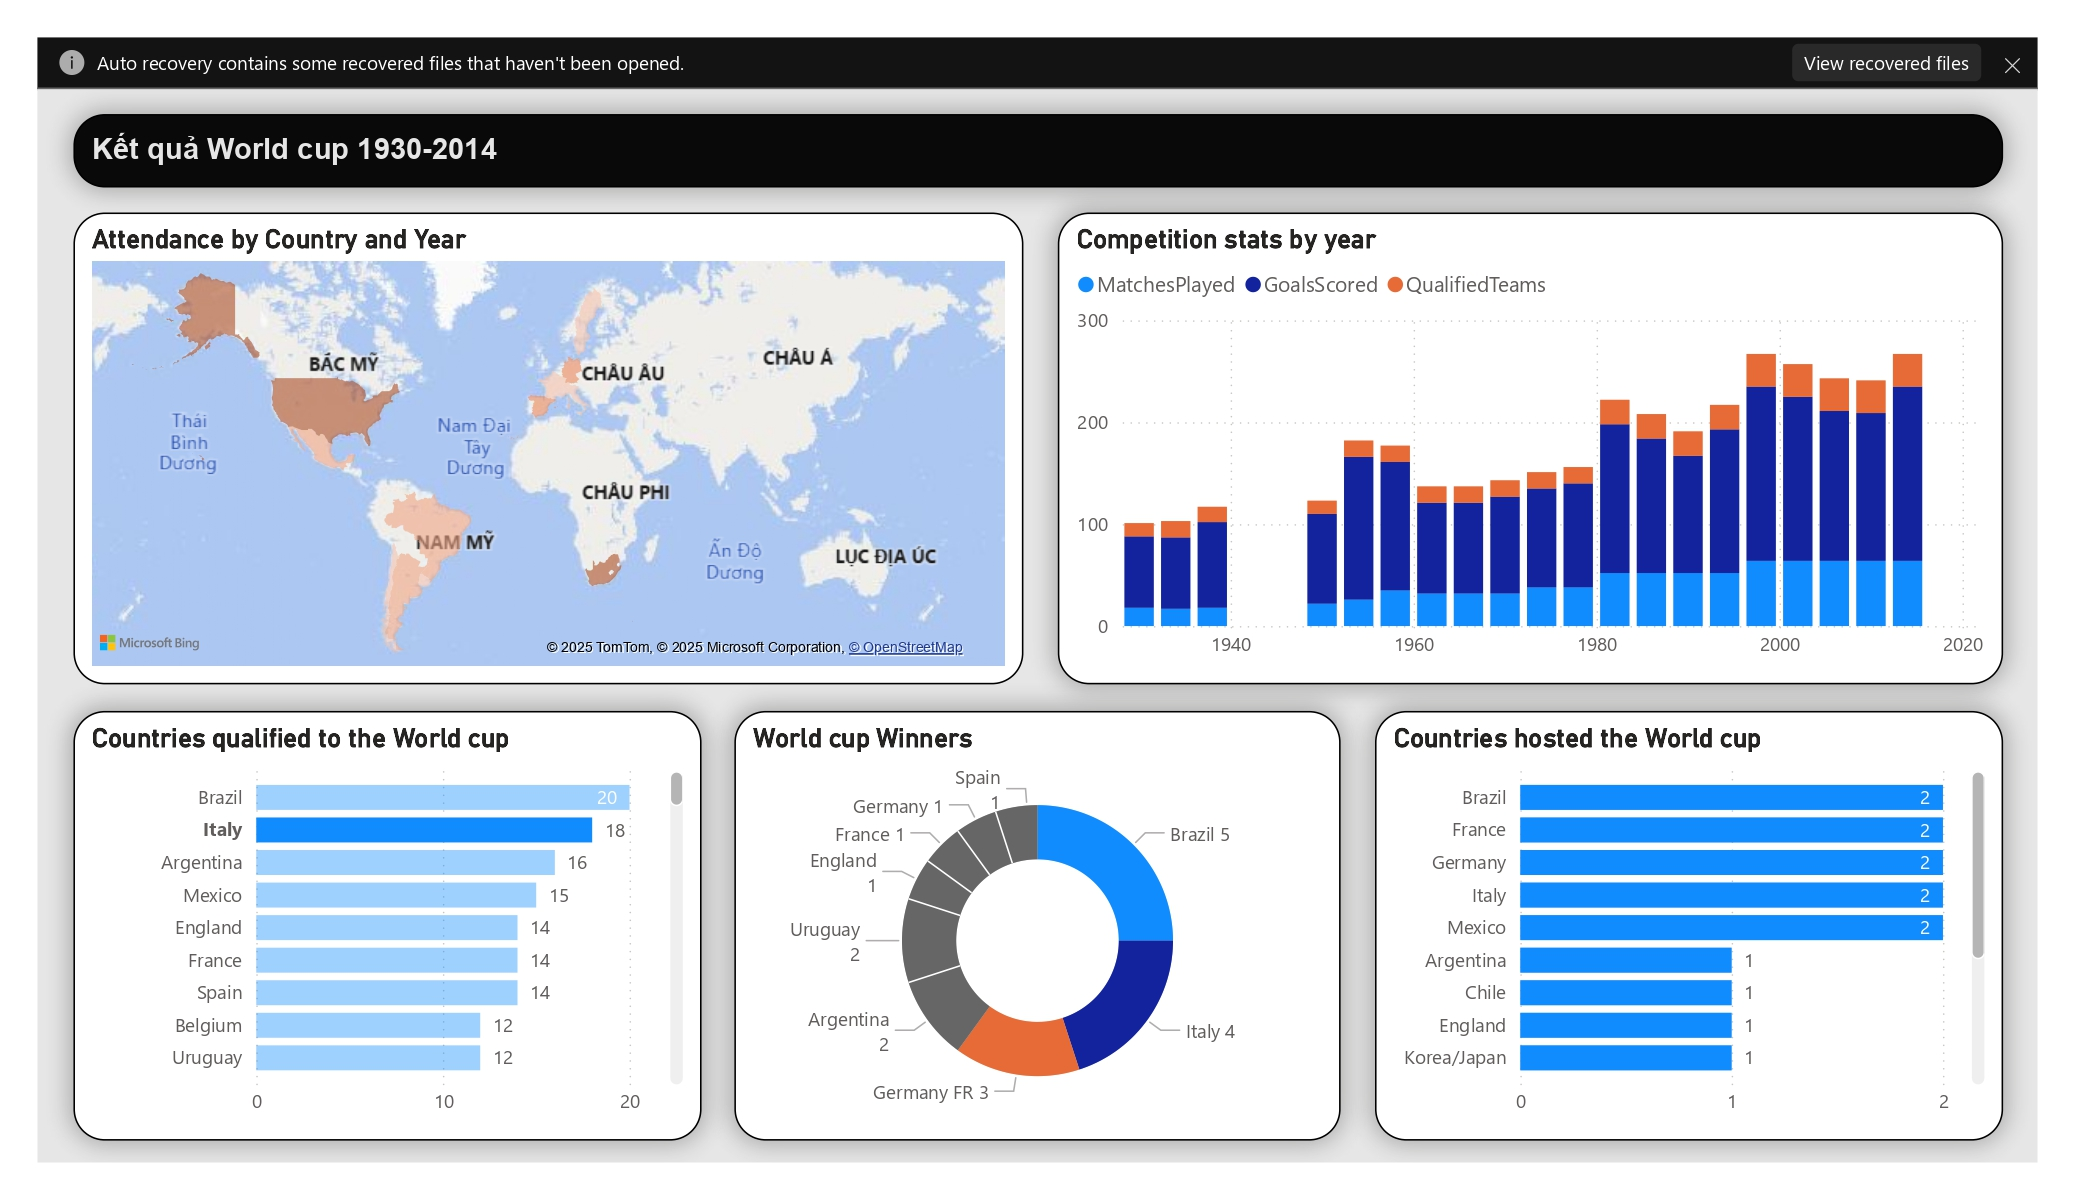

The dashboard page shown, as its layout file describes it:
{"tool":"powerbi","page":{"name":"Page 1","canvas":[1280,720],"ordinal":0},"visuals":[{"type":"columnChart","title":"Competition stats by year","fields":{"Y":["Sum(WorldCups.MatchesPlayed)","Sum(WorldCups.GoalsScored)","Sum(WorldCups.QualifiedTeams)"],"Category":["WorldCups.Year"]},"box":[652.9,111.8,605.3,302],"z":0},{"type":"textbox","box":[23.1,48.8,1235,47.6],"z":1000},{"type":"donutChart","title":"World cup Winners","fields":{"Y":["CountNonNull(WorldCups.Winner)"],"Category":["WorldCups.Winner"]},"box":[445.9,430.5,388.1,275],"z":2000},{"type":"barChart","title":"Countries qualified to the World cup","fields":{"Y":["Count(World Cup - Tableau format.Year)"],"Category":["World Cup - Tableau format.Team"]},"box":[23.1,430.5,402.2,275],"z":3000},{"type":"barChart","title":"Countries hosted the World cup","fields":{"Category":["WorldCups.Country"],"Y":["CountNonNull(WorldCups.Country)"]},"box":[855.9,430.5,402.2,275],"z":3001},{"type":"filledMap","title":"Attendance by Country and Year","fields":{"Category":["WorldCups.Country"],"Series":["WorldCups.Attendance"]},"box":[23.1,111.8,607.9,302],"z":3002}]}

Visuals, with their boxes in screenshot pixels (x1, y1, x2, y2):
"Competition stats by year" columnChart: x1=1055, y1=210, x2=1989, y2=676
textbox: x1=84, y1=113, x2=1989, y2=186
"World cup Winners" donutChart: x1=736, y1=702, x2=1335, y2=1126
"Countries qualified to the World cup" barChart: x1=84, y1=702, x2=704, y2=1126
"Countries hosted the World cup" barChart: x1=1368, y1=702, x2=1989, y2=1126
"Attendance by Country and Year" filledMap: x1=84, y1=210, x2=1022, y2=676
